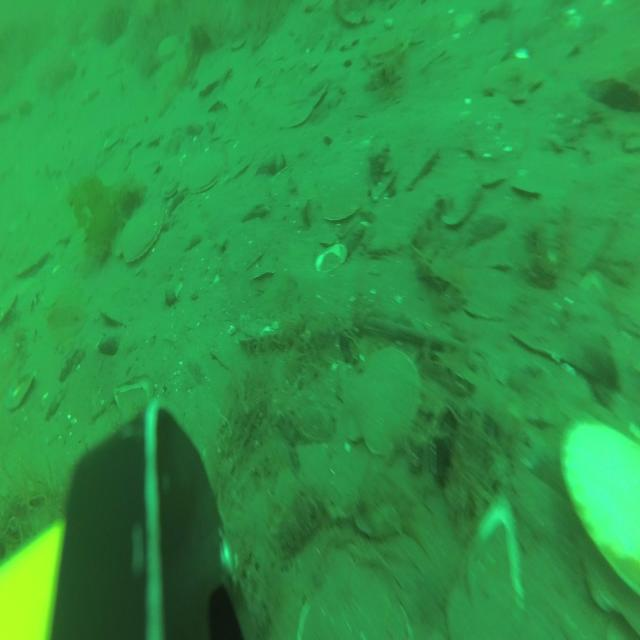scallop: (562, 407, 640, 607), (342, 342, 421, 459), (319, 152, 369, 220), (116, 206, 165, 268), (438, 167, 483, 232), (402, 135, 442, 190), (186, 149, 227, 199), (198, 58, 232, 99), (511, 168, 543, 209), (474, 161, 508, 196), (16, 246, 50, 280), (157, 32, 181, 64), (0, 293, 18, 335), (162, 175, 180, 199)
